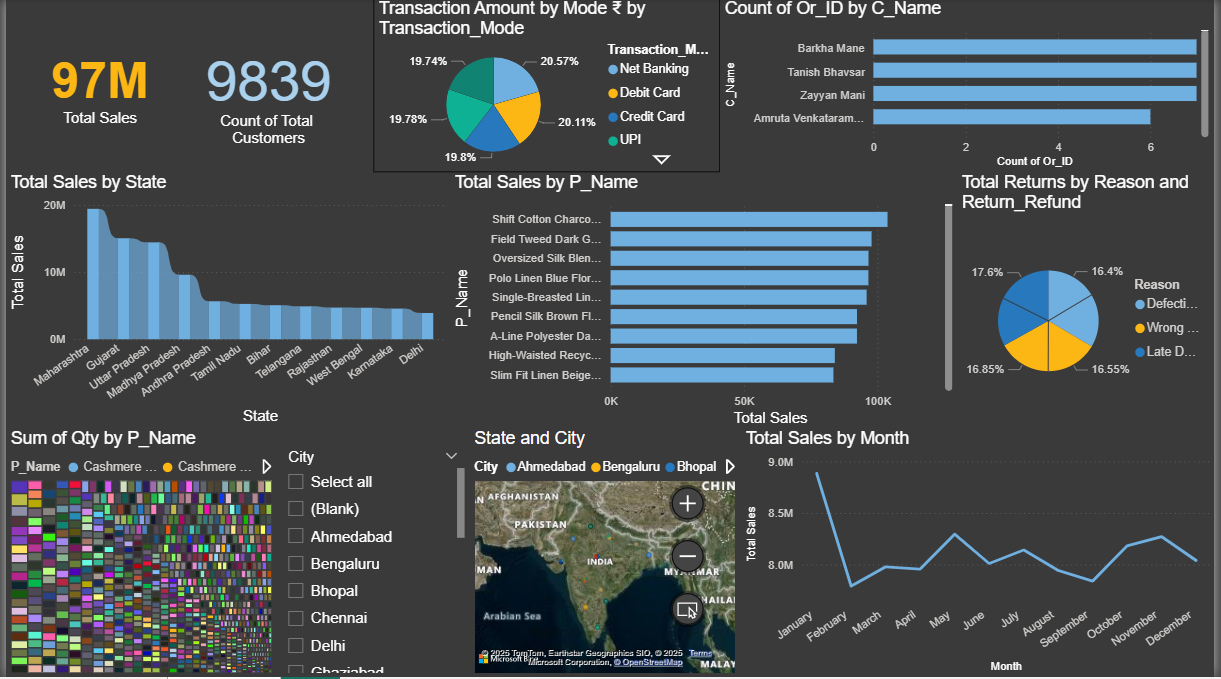

The page's visual inventory and layout, read from the dashboard file:
{"tool":"powerbi","page":{"name":"Page 1","canvas":[1280,720],"ordinal":0},"visuals":[{"type":"card","fields":{"Values":["customer.Total Sales"]},"box":[0,0,199.2,184.6],"z":0},{"type":"ribbonChart","fields":{"Y":["customer.Total Sales"],"Category":["customer.State"]},"box":[0,184.6,471.2,272],"z":1000},{"type":"clusteredBarChart","fields":{"Y":["customer.Total Sales"],"Category":["products.P_Name"]},"box":[491.5,184.5,516.9,273.6],"z":2000},{"type":"slicer","fields":{"Values":["customer.City"]},"box":[286.3,472.4,205.2,248.1],"z":3000},{"type":"pieChart","fields":{"Category":["returns.Reason"],"Y":["returns.Total_returns"],"Series":["returns.Return_Refund"]},"box":[1008.8,184.6,272,273.6],"z":4000},{"type":"map","fields":{"Category":["customer.State"],"Series":["customer.City"]},"box":[492.2,456.6,286.6,263.9],"z":5000},{"type":"treemap","fields":{"Details":["products.P_Name"],"Values":["orders.Qty"]},"box":[0,456.5,286.3,264],"z":6000},{"type":"lineChart","fields":{"Category":["orders.Order_Date.Variation.Date Hierarchy.Month"],"Y":["customer.Total Sales"]},"box":[778.8,456.6,502,263.9],"z":7000},{"type":"pieChart","fields":{"Category":["transaction.Transaction_Mode"],"Y":["transaction.Transaction Amount by Mode ₹"]},"box":[390.2,0,367.6,184.6],"z":8000},{"type":"card","fields":{"Values":["customer.C_Name"]},"box":[199.2,0,158.7,184.6],"z":9000},{"type":"clusteredBarChart","fields":{"Category":["customer.C_Name","customer.C_ID"],"Y":["orders.Or_ID"]},"box":[757.8,0,523,184.6],"z":10000}]}

Visuals, with their boxes in screenshot pixels (x1, y1, x2, y2), scaled from the page's 1280x720 canvas onto the 1221x679 screenshot:
card - customer.Total Sales: x1=0 y1=0 x2=190 y2=174
ribbonChart - customer.Total Sales x customer.State: x1=0 y1=174 x2=449 y2=431
clusteredBarChart - customer.Total Sales x products.P_Name: x1=469 y1=174 x2=962 y2=432
slicer - customer.City: x1=273 y1=445 x2=469 y2=678
pieChart - returns.Reason x returns.Total_returns: x1=962 y1=174 x2=1220 y2=432
map - customer.State x customer.City: x1=470 y1=431 x2=743 y2=678
treemap - products.P_Name x orders.Qty: x1=0 y1=431 x2=273 y2=678
lineChart - orders.Order_Date.Variation.Date Hierarchy.Month x customer.Total Sales: x1=743 y1=431 x2=1220 y2=678
pieChart - transaction.Transaction_Mode x transaction.Transaction Amount by Mode ₹: x1=372 y1=0 x2=723 y2=174
card - customer.C_Name: x1=190 y1=0 x2=341 y2=174
clusteredBarChart - customer.C_Name x customer.C_ID: x1=723 y1=0 x2=1220 y2=174
